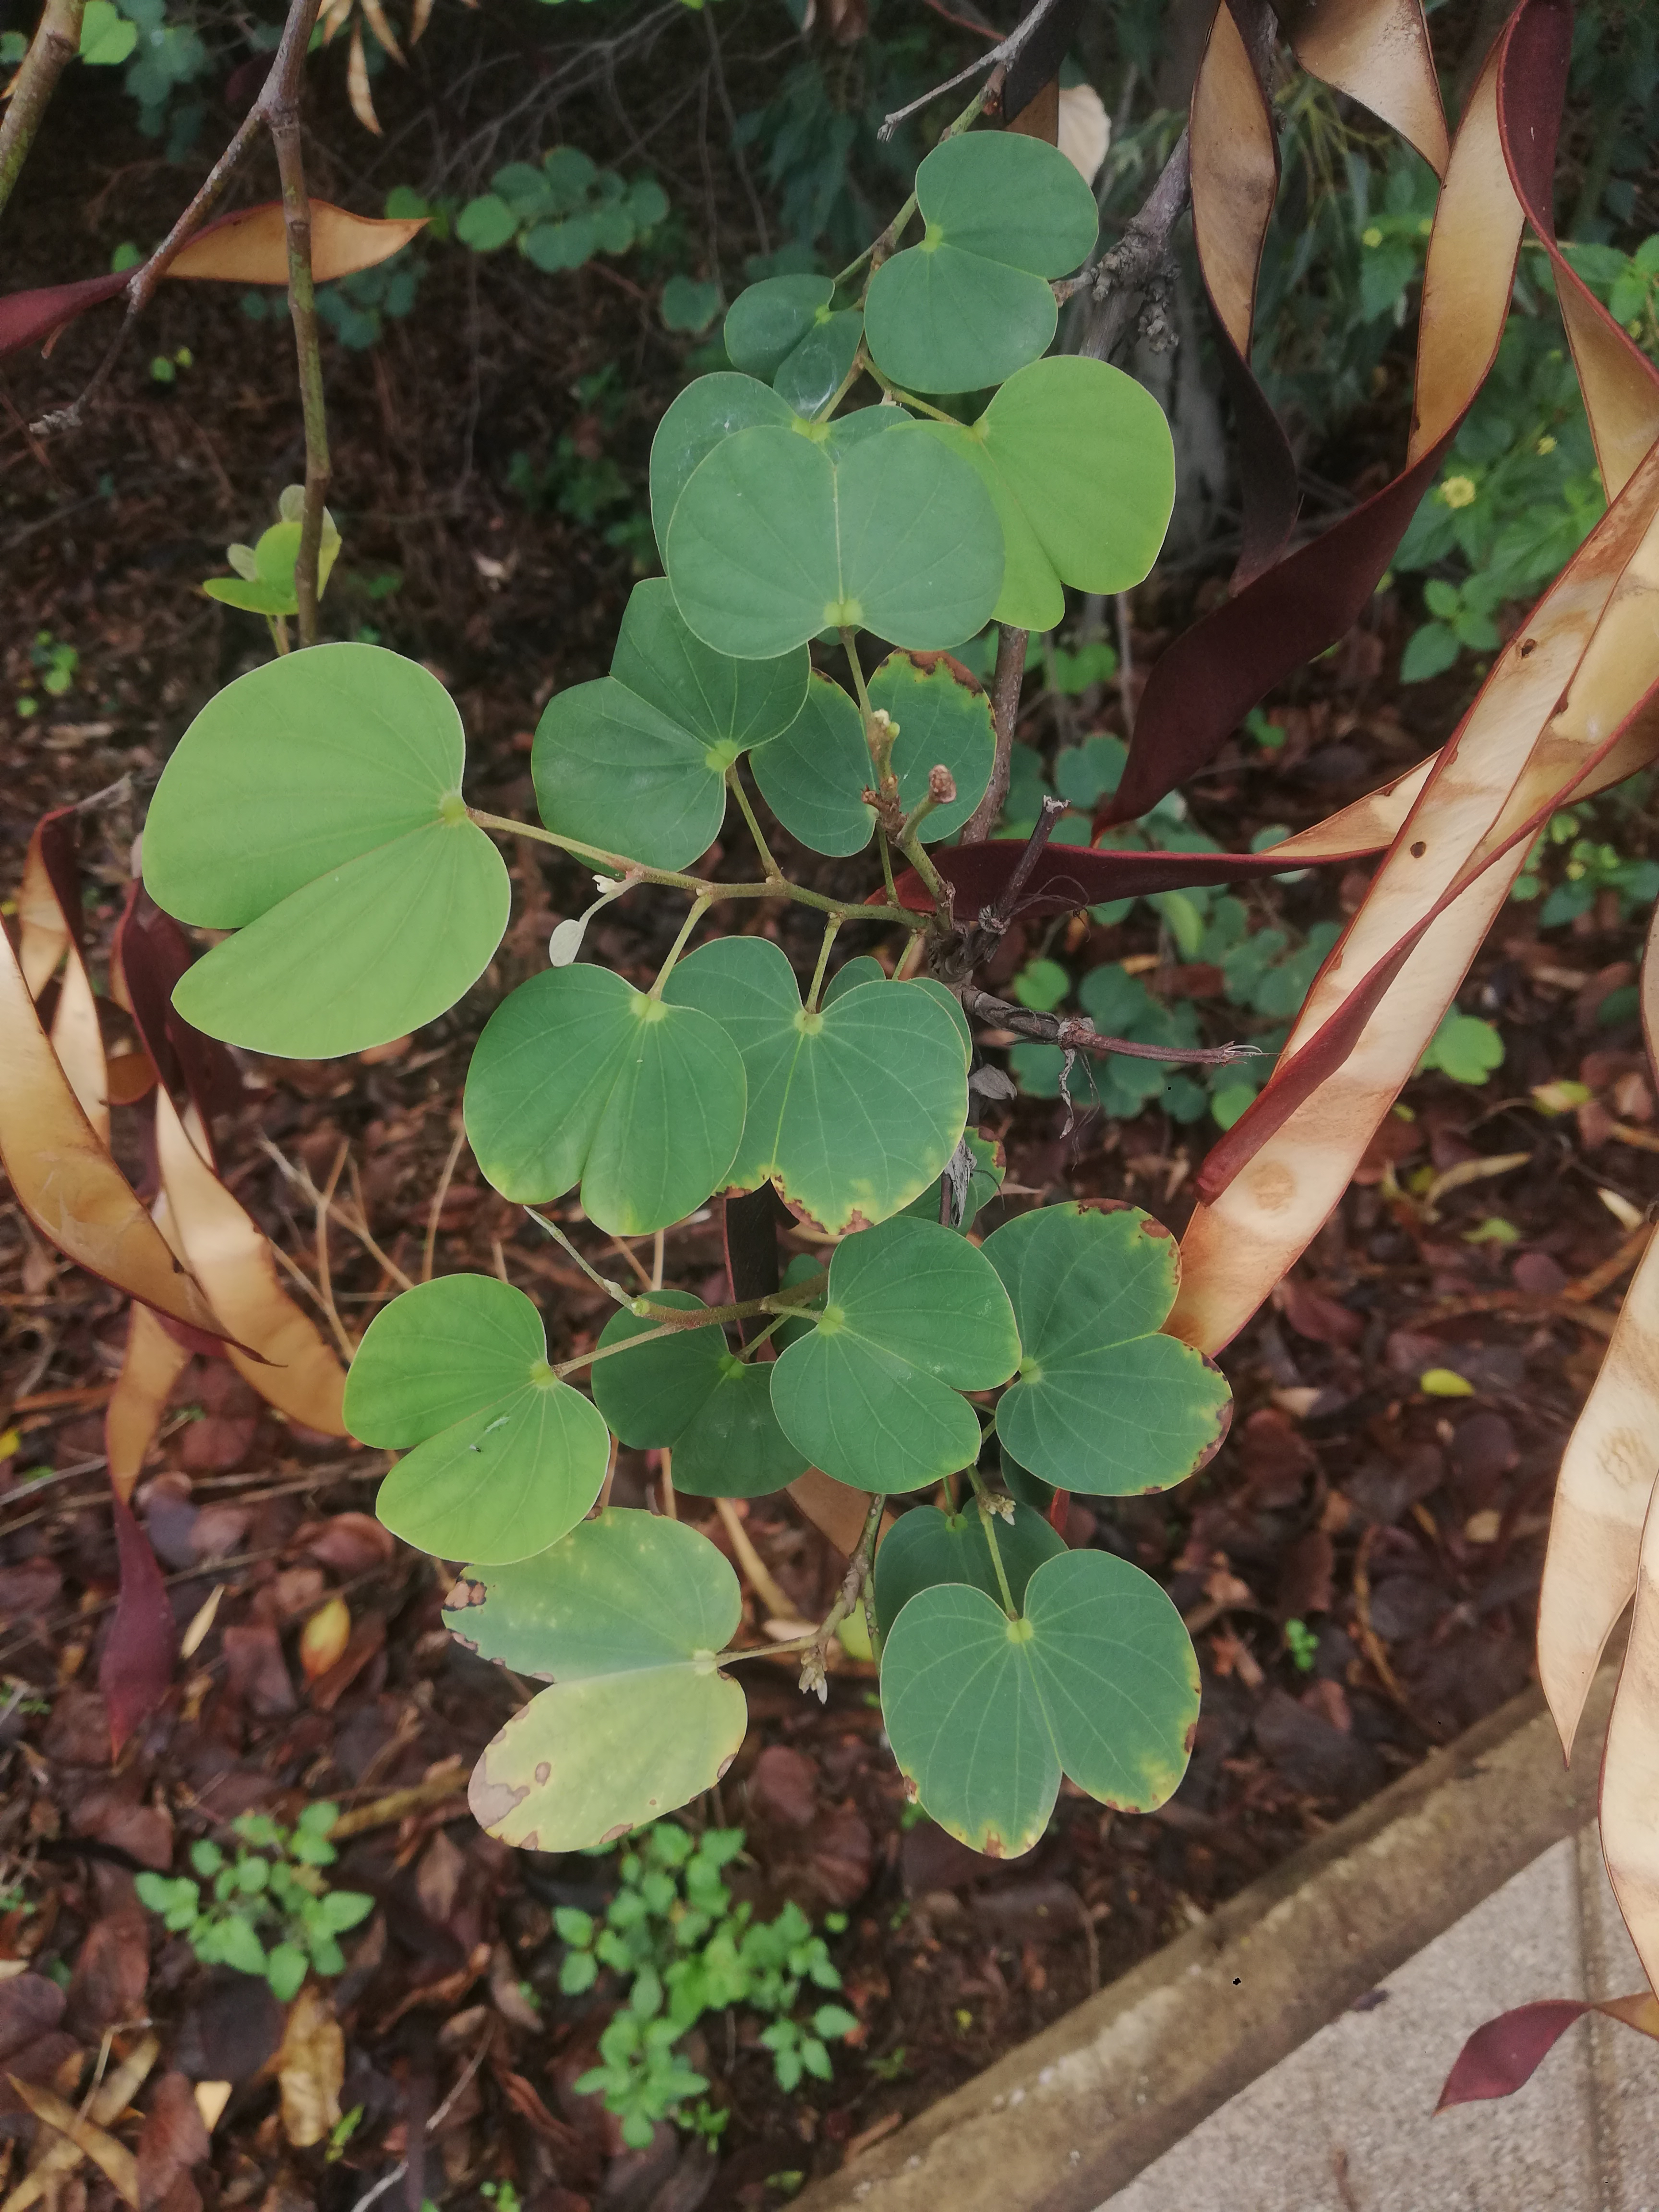healthy: (110, 634, 516, 1076), (329, 1258, 612, 1588), (657, 418, 1019, 672), (464, 965, 765, 1247), (929, 345, 1208, 636), (840, 134, 1121, 415), (769, 1184, 1026, 1489)
nothealthy: (432, 1498, 746, 1867), (870, 1559, 1213, 1874), (641, 953, 986, 1240), (979, 1163, 1232, 1494)
